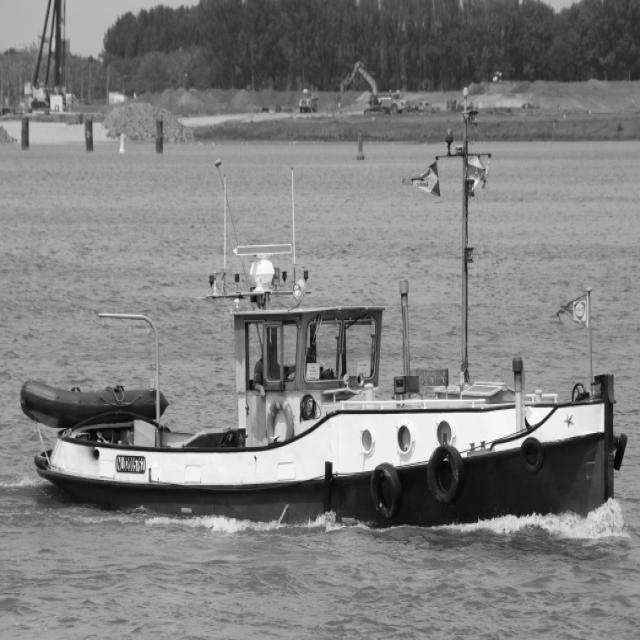tugboat: (16, 239, 631, 544)
